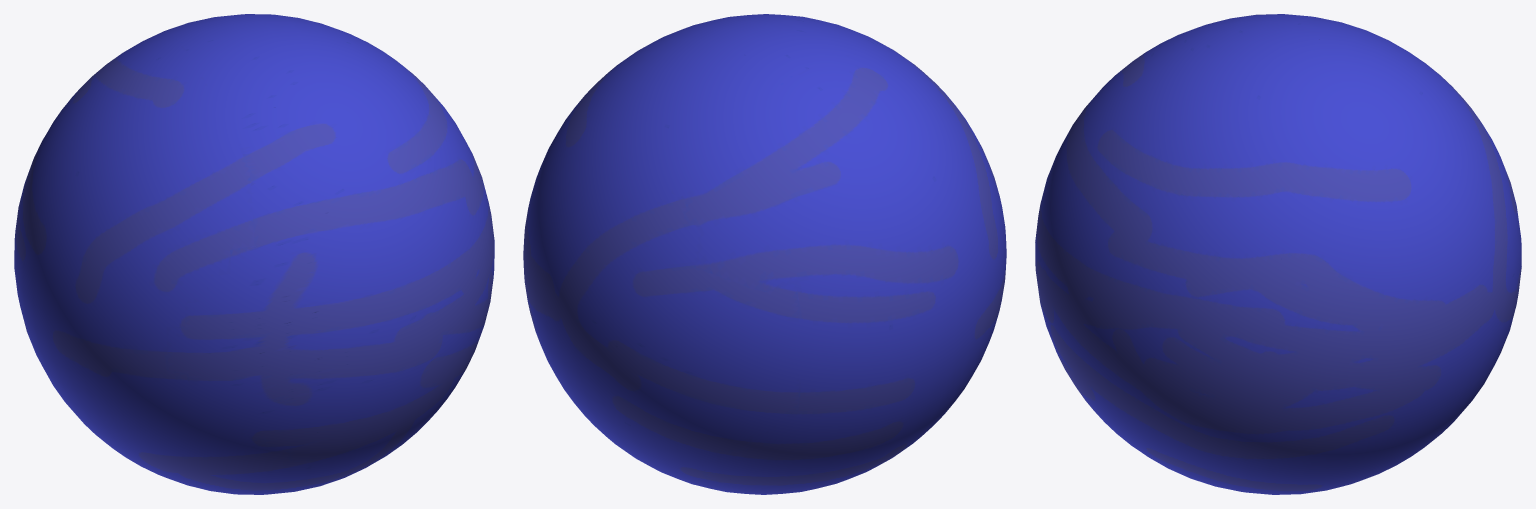
The model's file is neptune.gltf.
3 renders of one model, left to right at view 1: azimuth 30°, elevation 25°; view 2: azimuth 150°, elevation 25°; view 3: azimuth 270°, elevation 25°, orthographic.
Visible parts, largest first — view 1: node_id102; view 2: node_id102; view 3: node_id102.
Boxes of the visible parts, x1,y1,x2,y2 form: node_id102: (14, 14, 494, 494); node_id102: (523, 14, 1006, 494); node_id102: (1035, 14, 1521, 494).
Size of the model in its own units: 0.4075 by 0.4067 by 0.4121.
1 material, 1 textured.
